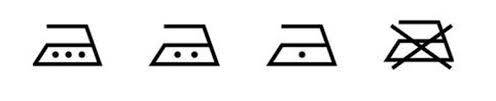ER_iron_high_temp: (29, 18, 107, 70)
ER_iron_low_temp: (264, 20, 340, 70)
ER_iron_medium_temp: (148, 20, 224, 73)
ER_no_iron: (383, 17, 460, 75)
